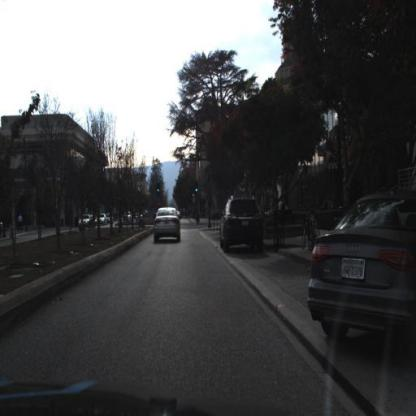car: (309, 186, 416, 351), (220, 189, 267, 257), (150, 201, 184, 250), (75, 216, 93, 232), (96, 213, 109, 228)
pedestrian: (16, 213, 23, 236)
trafficLight-Green: (156, 182, 161, 197), (195, 181, 200, 195)
